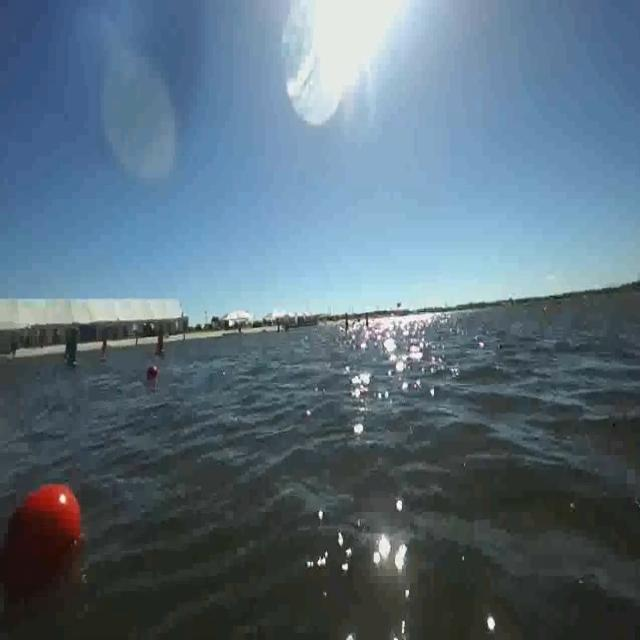black-buoy: (146, 362, 158, 378)
green-column-buoy: (63, 326, 82, 371)
red-buoy: (2, 478, 86, 568)
red-column-buoy: (99, 333, 111, 361), (156, 329, 167, 358)
